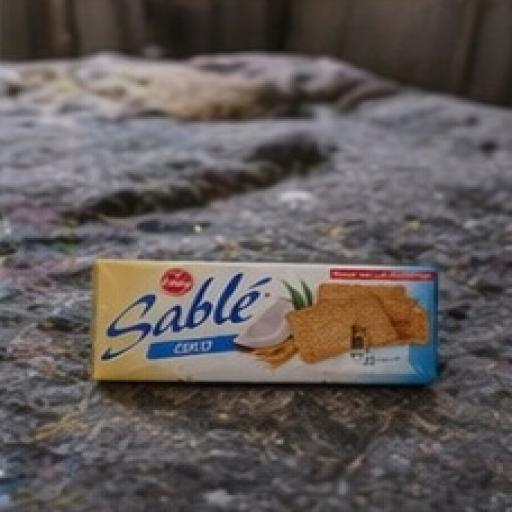sable: (55, 170, 496, 446)
